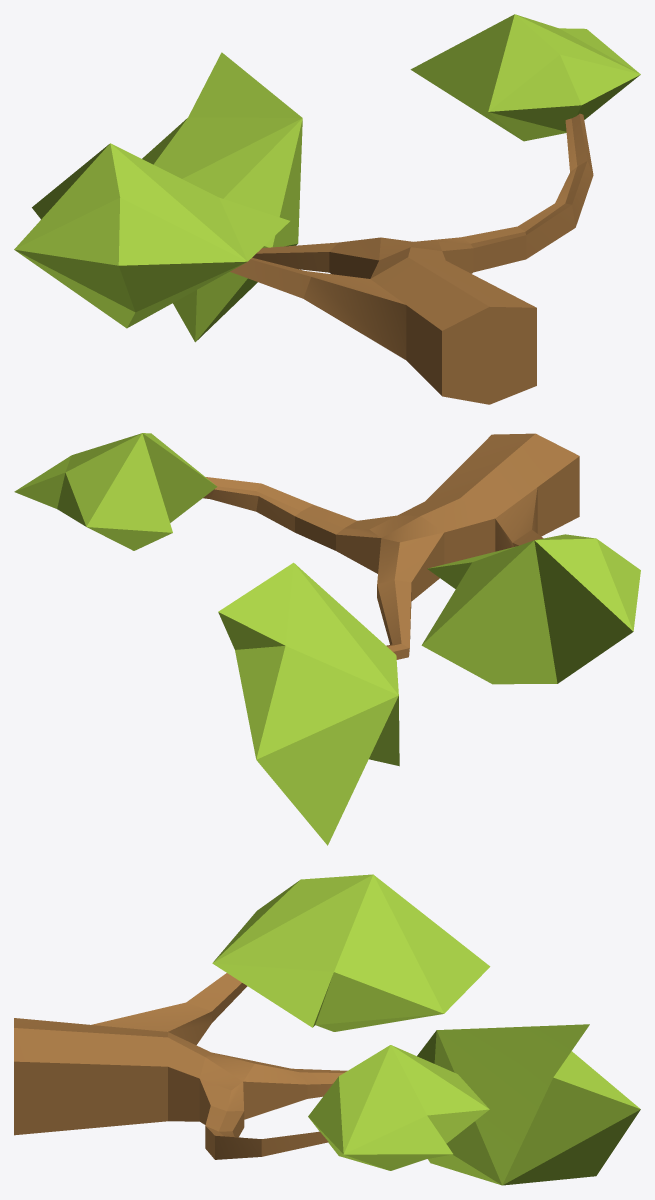
The model's file is tree5.dae.
3 renders of one model, top to bottom at view 1: azimuth 30°, elevation 25°; view 2: azimuth 150°, elevation 25°; view 3: azimuth 270°, elevation 25°, orthographic. The views are drawn at different scales.
Visible parts, largest first — view 1: Green, Brown; view 2: Green, Brown; view 3: Green, Brown.
Boxes of the visible parts, bbox=[...] form: Green: bbox=[14, 14, 640, 342]; Brown: bbox=[230, 113, 593, 404]; Green: bbox=[14, 433, 640, 845]; Brown: bbox=[203, 433, 579, 659]; Green: bbox=[212, 874, 640, 1185]; Brown: bbox=[14, 973, 347, 1159].
Bounding box in the file's own units: 0.876 × 0.8123 × 0.3913.
